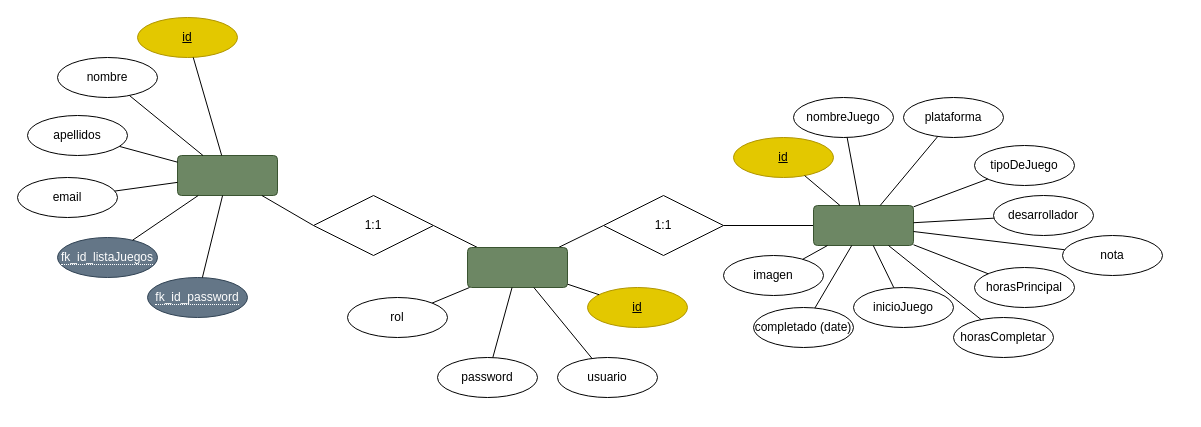
The diagram is 1201 pixels wide and 427 high, and some of its shapes have lost their labels. The shapes that lost their labels are listed below. From the top down, each one's centre as x and y in pixels, then its label:
(x=227, y=175): Usuarios
(x=863, y=225): listaJuegos
(x=517, y=267): Passwords
